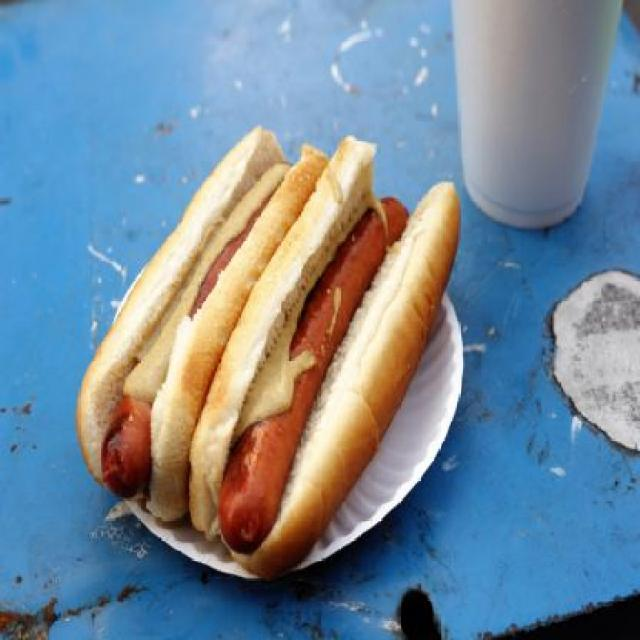Hot dog: (178, 126, 462, 583), (74, 126, 320, 520)
